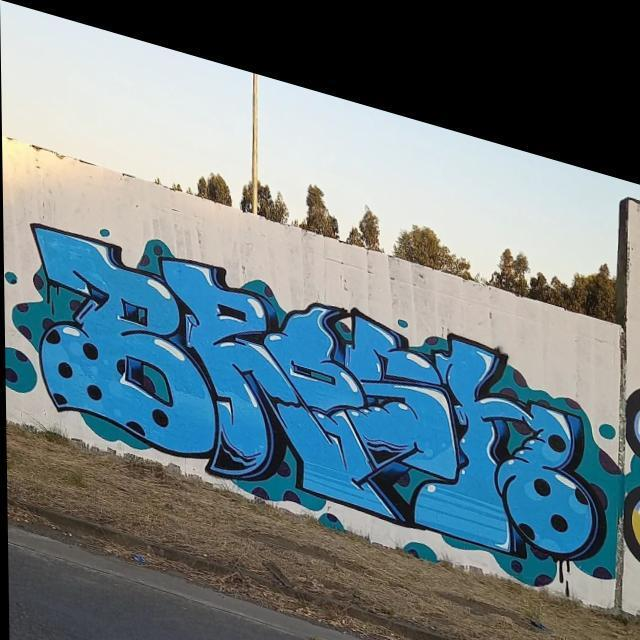-: (4, 180, 614, 580)
